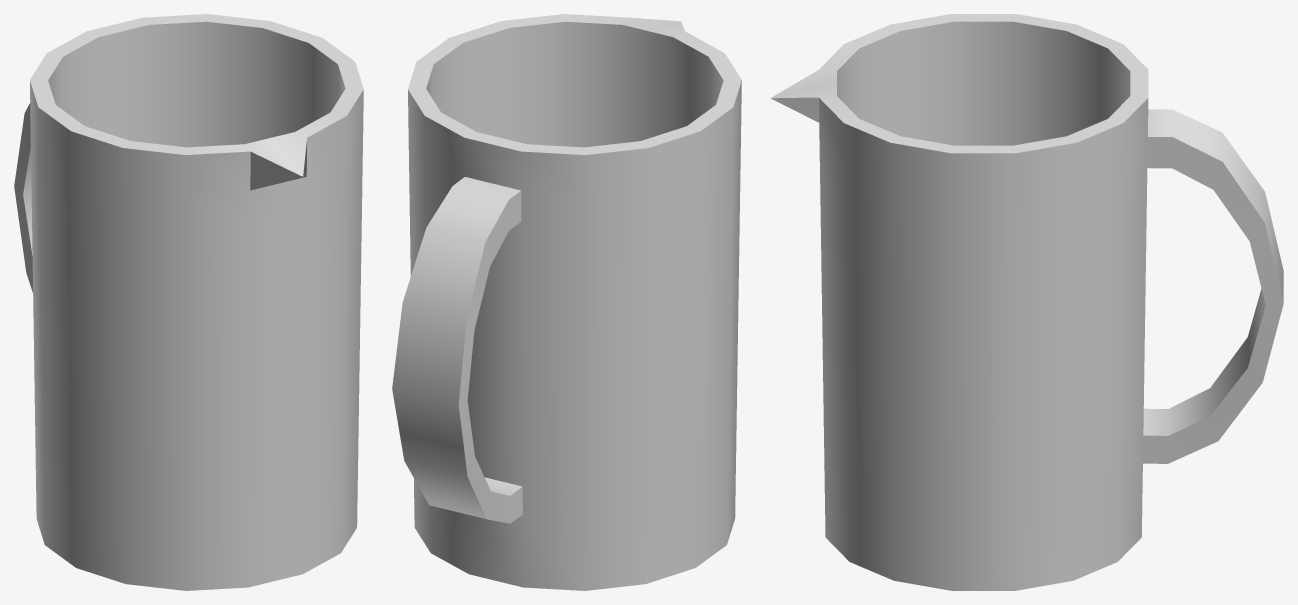
The model's file is ca_dung_nuoc.fbx.
The picture shows the model from 3 angles, left to right: view 1: azimuth 30°, elevation 25°; view 2: azimuth 150°, elevation 25°; view 3: azimuth 270°, elevation 25°; orthographic projection.
Parts seen in each view (by area): view 1: Ca dung nuoc; view 2: Ca dung nuoc; view 3: Ca dung nuoc.
Boxes of the visible parts, box(x1,y1,x2,y2) form: Ca dung nuoc: box(14, 14, 363, 590); Ca dung nuoc: box(392, 14, 741, 590); Ca dung nuoc: box(770, 14, 1283, 590).
Size of the model in its own units: 29.42 by 44 by 45.84.
Materials: 1 (1 with a texture image).
